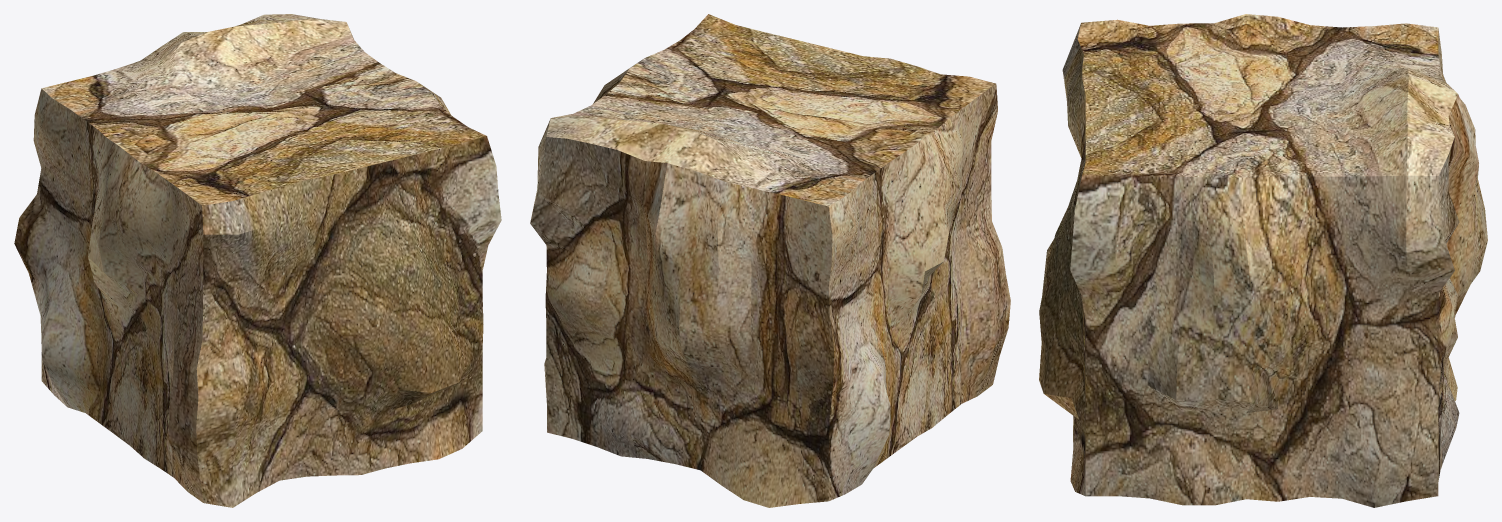
Rendered from stone.glb.
3 views of the same model, side by side, from view 1: azimuth 30°, elevation 25°; view 2: azimuth 150°, elevation 25°; view 3: azimuth 270°, elevation 25° (orthographic). The views are drawn at different scales.
Parts seen in each view (by area): view 1: Cube; view 2: Cube; view 3: Cube.
Part boxes in pixels (bbox=[...]): Cube: bbox=[14, 14, 501, 507]; Cube: bbox=[530, 14, 1010, 507]; Cube: bbox=[1039, 14, 1487, 507].
Bounding box in the file's own units: 2.58 × 2.44 × 2.55.
Materials: 1 (1 with a texture image).
